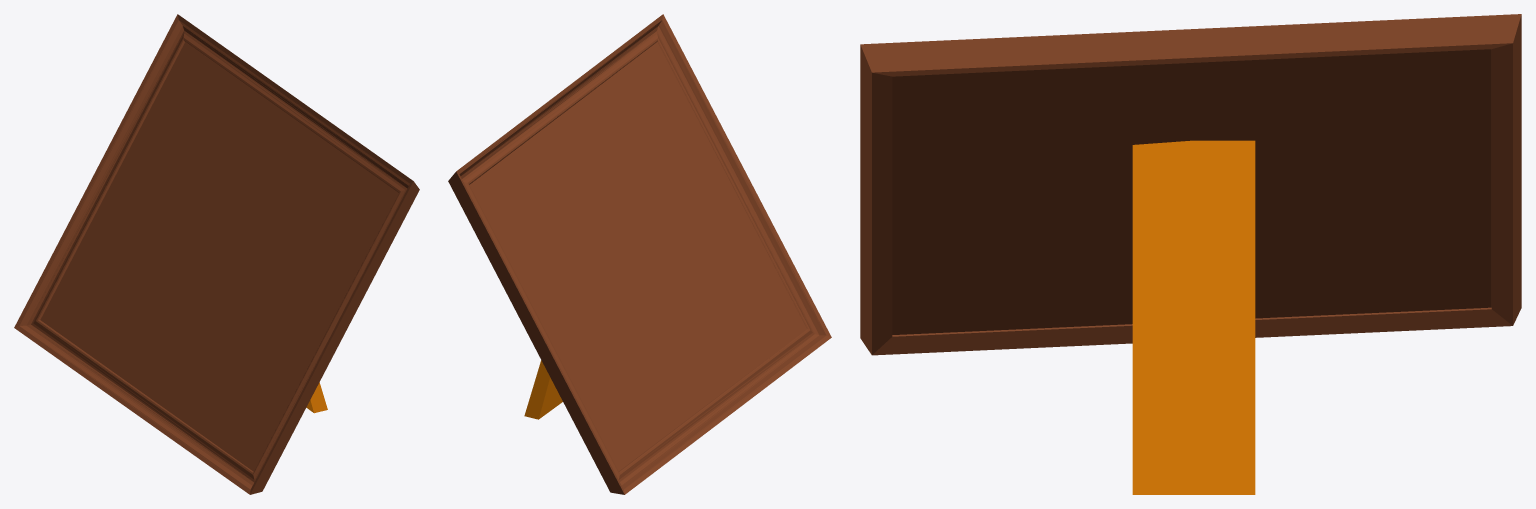
The model's file is porta retrato.FBX.
3 views of the same model, side by side, from view 1: azimuth 30°, elevation 25°; view 2: azimuth 150°, elevation 25°; view 3: azimuth 270°, elevation 25° (orthographic). The views are drawn at different scales.
Parts seen in each view (by area): view 1: foto, frame; view 2: foto, frame, pe; view 3: frame, pe.
Boxes of the visible parts, <box> form: foto: <box>40,42,398,471</box>; frame: <box>14,14,419,494</box>; foto: <box>469,42,806,470</box>; frame: <box>448,14,831,494</box>; pe: <box>524,360,562,419</box>; frame: <box>860,14,1521,355</box>; pe: <box>1132,140,1255,494</box>.
Size of the model in its own units: 4.09 by 6.28 by 8.1.
